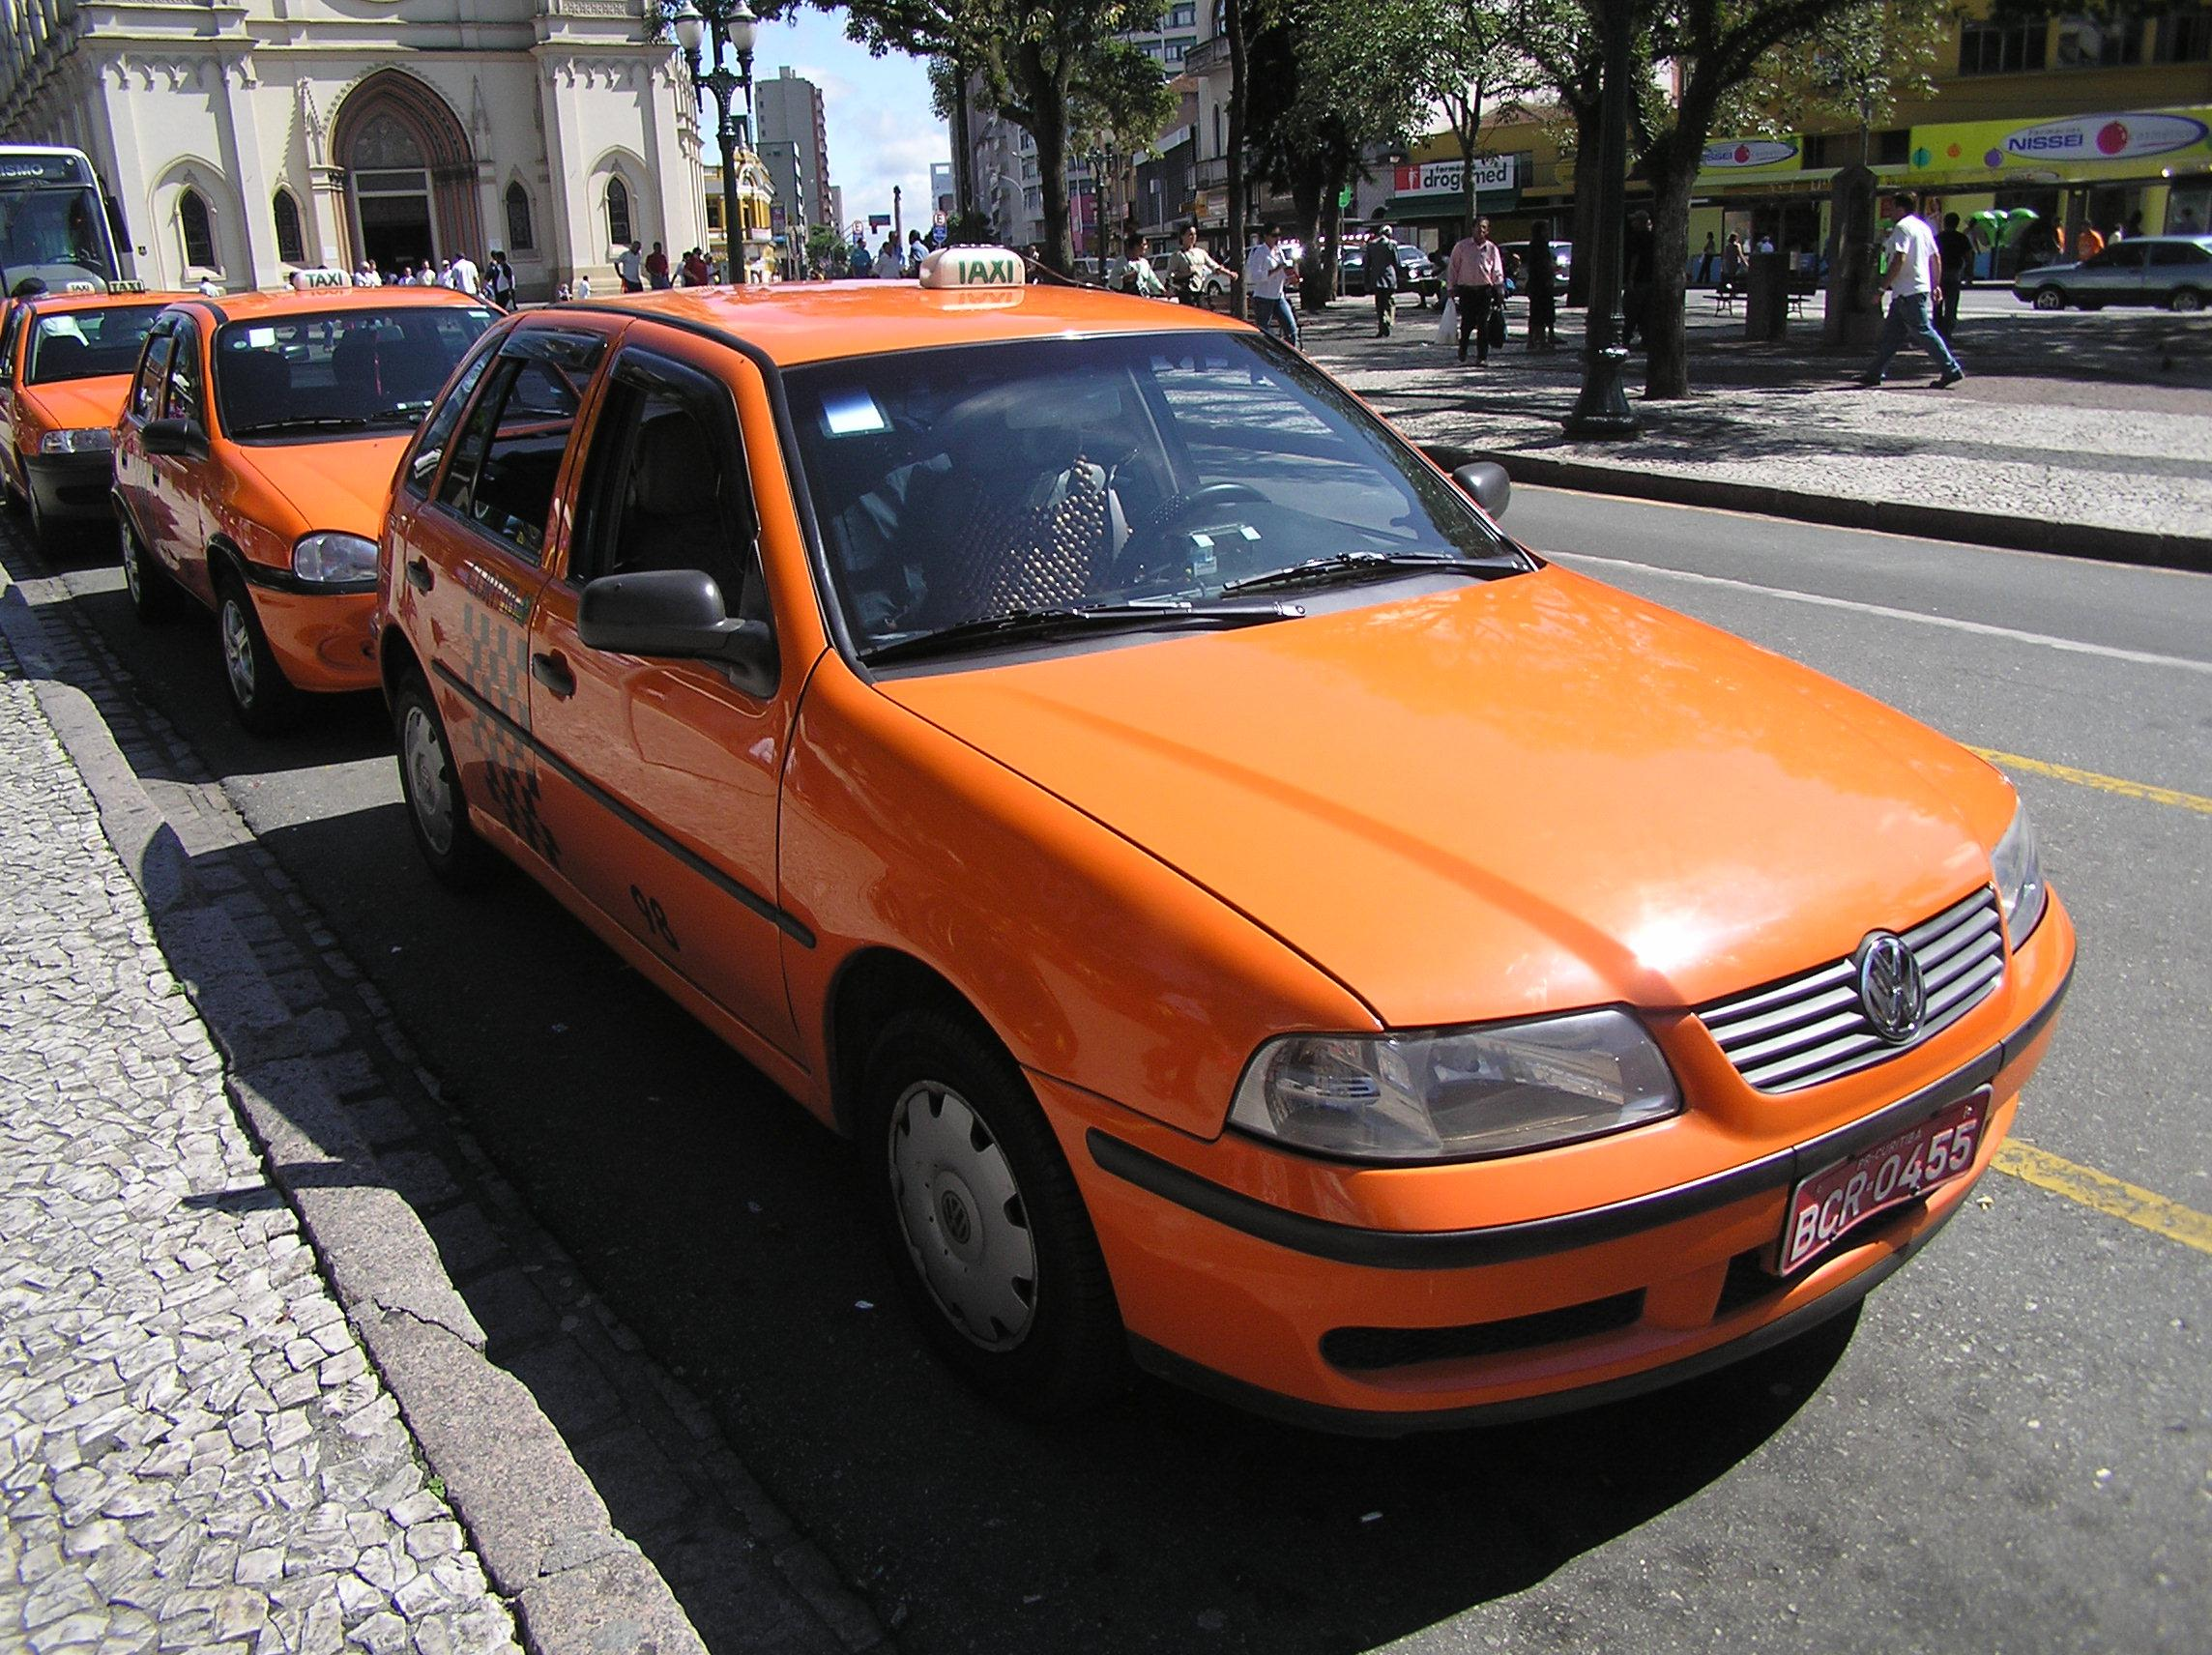taxi: (381, 243, 2082, 1464)
